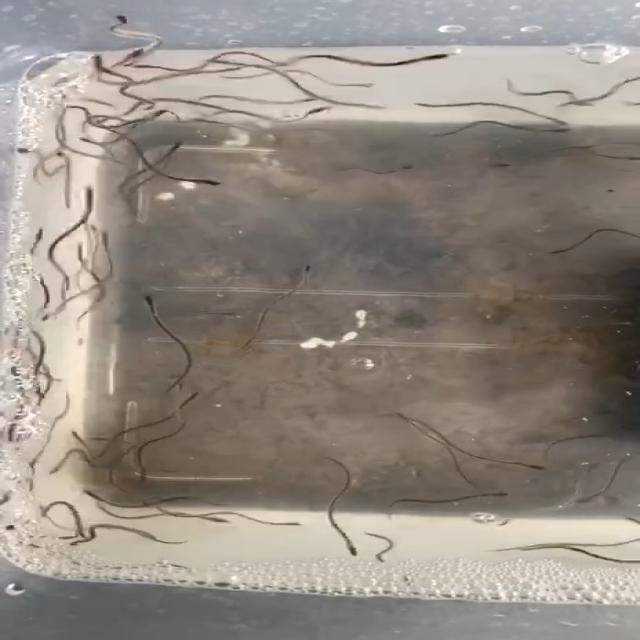inactive_glass_eel: (80, 54, 110, 81), (117, 42, 153, 63), (300, 102, 347, 118), (540, 241, 587, 257), (6, 143, 49, 159), (74, 184, 105, 206), (62, 427, 92, 449), (414, 50, 459, 64), (110, 7, 134, 33), (289, 260, 313, 285), (472, 489, 518, 502), (44, 456, 77, 474), (538, 110, 574, 126), (162, 137, 188, 159), (178, 388, 208, 407), (300, 92, 333, 109), (258, 516, 303, 528), (340, 537, 367, 557), (61, 132, 98, 146), (340, 80, 376, 94), (31, 226, 54, 247), (36, 305, 64, 322), (72, 238, 90, 264), (516, 460, 549, 474), (564, 95, 595, 109), (117, 61, 159, 71), (100, 228, 118, 251), (76, 489, 105, 503), (185, 174, 221, 185), (142, 296, 162, 314), (389, 166, 423, 176), (189, 516, 230, 524), (538, 126, 574, 135), (132, 466, 151, 483)
